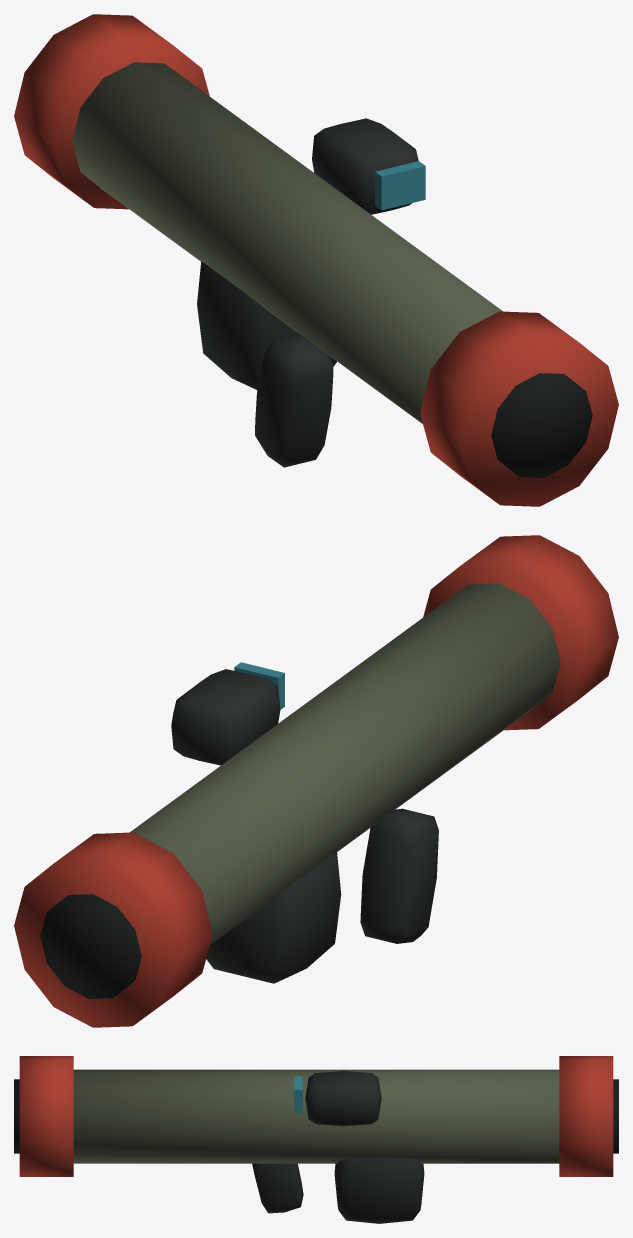
Rendered from Bastion_RocketSoldier_Weapon.obj.
3 renders of one model, top to bottom at view 1: azimuth 30°, elevation 25°; view 2: azimuth 150°, elevation 25°; view 3: azimuth 270°, elevation 25°, orthographic. The views are drawn at different scales.
Parts seen in each view (by area): view 1: LauncherTube, FrontRing, RearRing, FrontGrip, FrontBore, TriggerHousing, SightBase, SightGlass; view 2: LauncherTube, RearRing, FrontRing, TriggerHousing, FrontGrip, RearBore, SightBase, SightGlass; view 3: LauncherTube, FrontRing, RearRing, TriggerHousing, SightBase, FrontGrip, FrontBore, RearBore, SightGlass.
Part boxes in pixels (x1,y1,x2,y2): LauncherTube: [72, 62, 502, 423]; FrontRing: [420, 311, 618, 506]; RearRing: [14, 14, 209, 209]; FrontGrip: [255, 333, 333, 467]; FrontBore: [491, 373, 592, 477]; TriggerHousing: [197, 261, 336, 389]; SightBase: [312, 118, 418, 214]; SightGlass: [375, 161, 425, 210]; LauncherTube: [130, 583, 560, 944]; RearRing: [14, 832, 212, 1027]; FrontRing: [423, 535, 618, 730]; TriggerHousing: [206, 852, 341, 983]; FrontGrip: [360, 808, 438, 943]; RearBore: [40, 894, 141, 998]; SightBase: [171, 669, 280, 765]; SightGlass: [234, 662, 284, 709]; LauncherTube: [73, 1069, 559, 1163]; FrontRing: [19, 1056, 73, 1176]; RearRing: [559, 1056, 613, 1176]; TriggerHousing: [334, 1158, 424, 1223]; SightBase: [305, 1071, 381, 1126]; FrontGrip: [252, 1163, 303, 1213]; FrontBore: [14, 1079, 19, 1153]; RearBore: [613, 1079, 618, 1153]; SightGlass: [294, 1076, 302, 1112].
Bounding box in the file's own units: 0.315 × 0.4178 × 1.34.
Materials: 1 (1 with a texture image).
